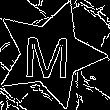M_N: (25, 28, 75, 81)
